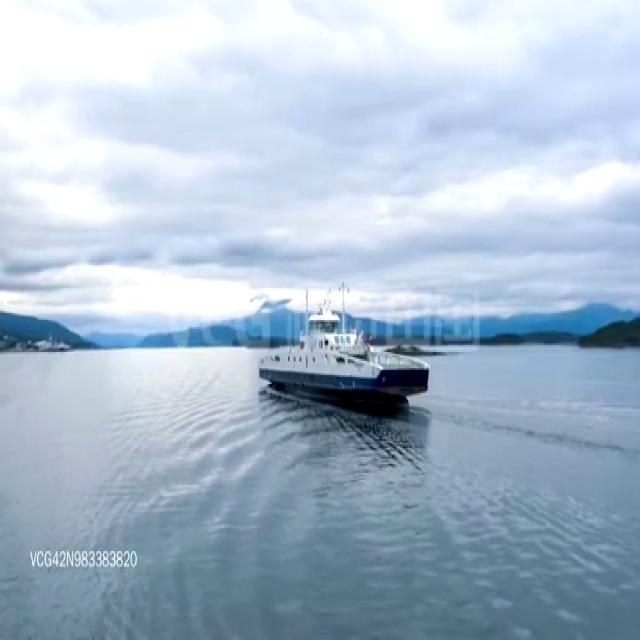houseboat: (257, 293, 428, 405)
